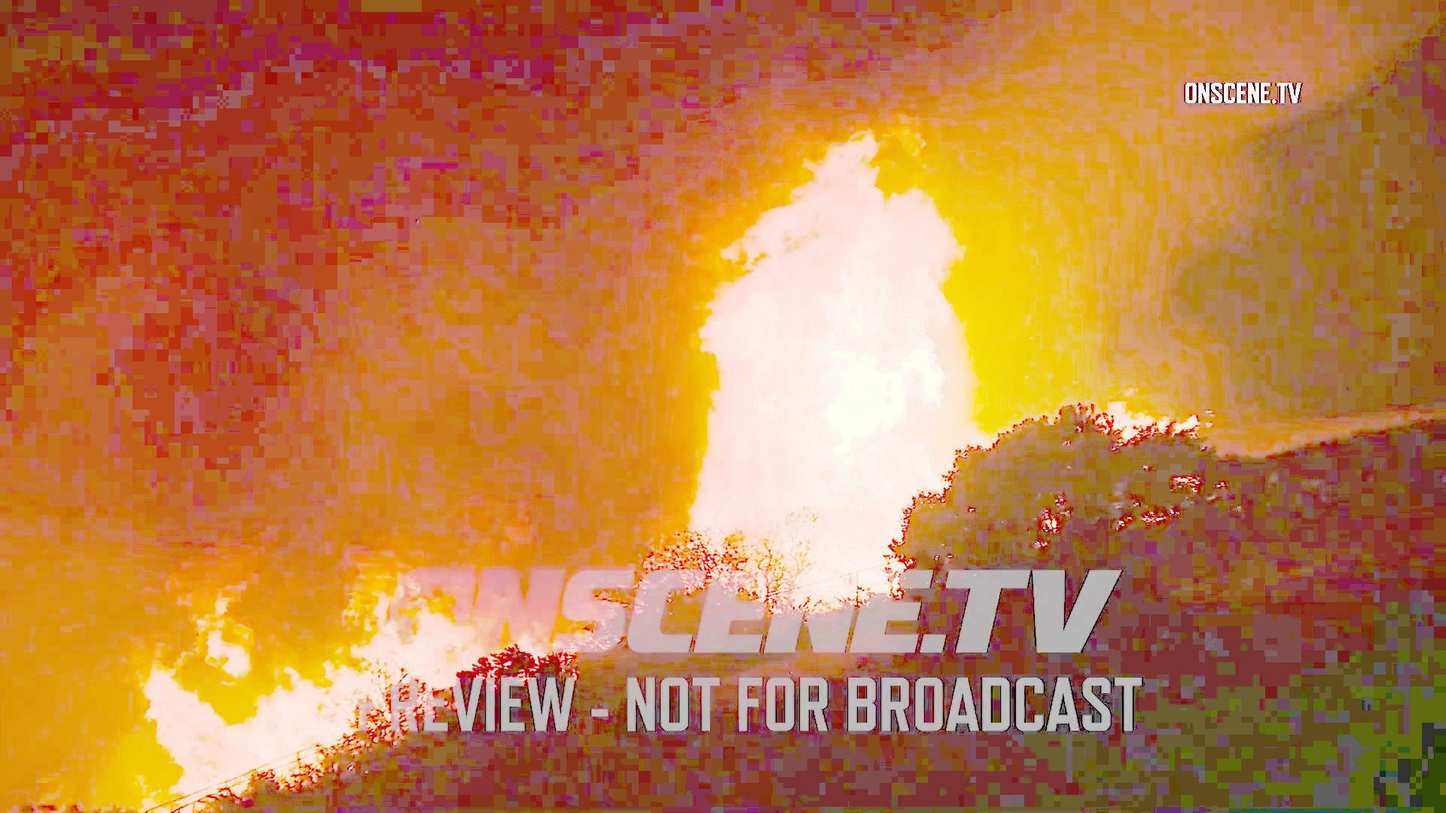fire: (737, 143, 912, 529), (320, 539, 468, 652)
